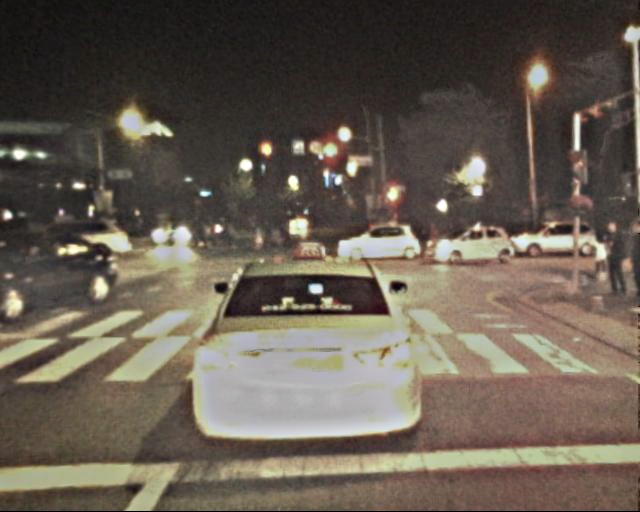person: (596, 219, 626, 293), (182, 214, 234, 250), (586, 229, 609, 286), (276, 218, 290, 252), (149, 217, 163, 250), (246, 216, 259, 248), (262, 220, 274, 249)
